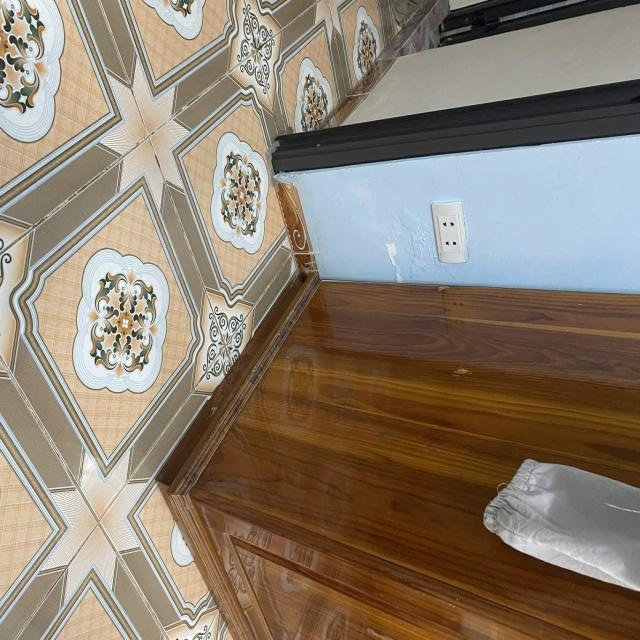outlet: (431, 201, 468, 263)
